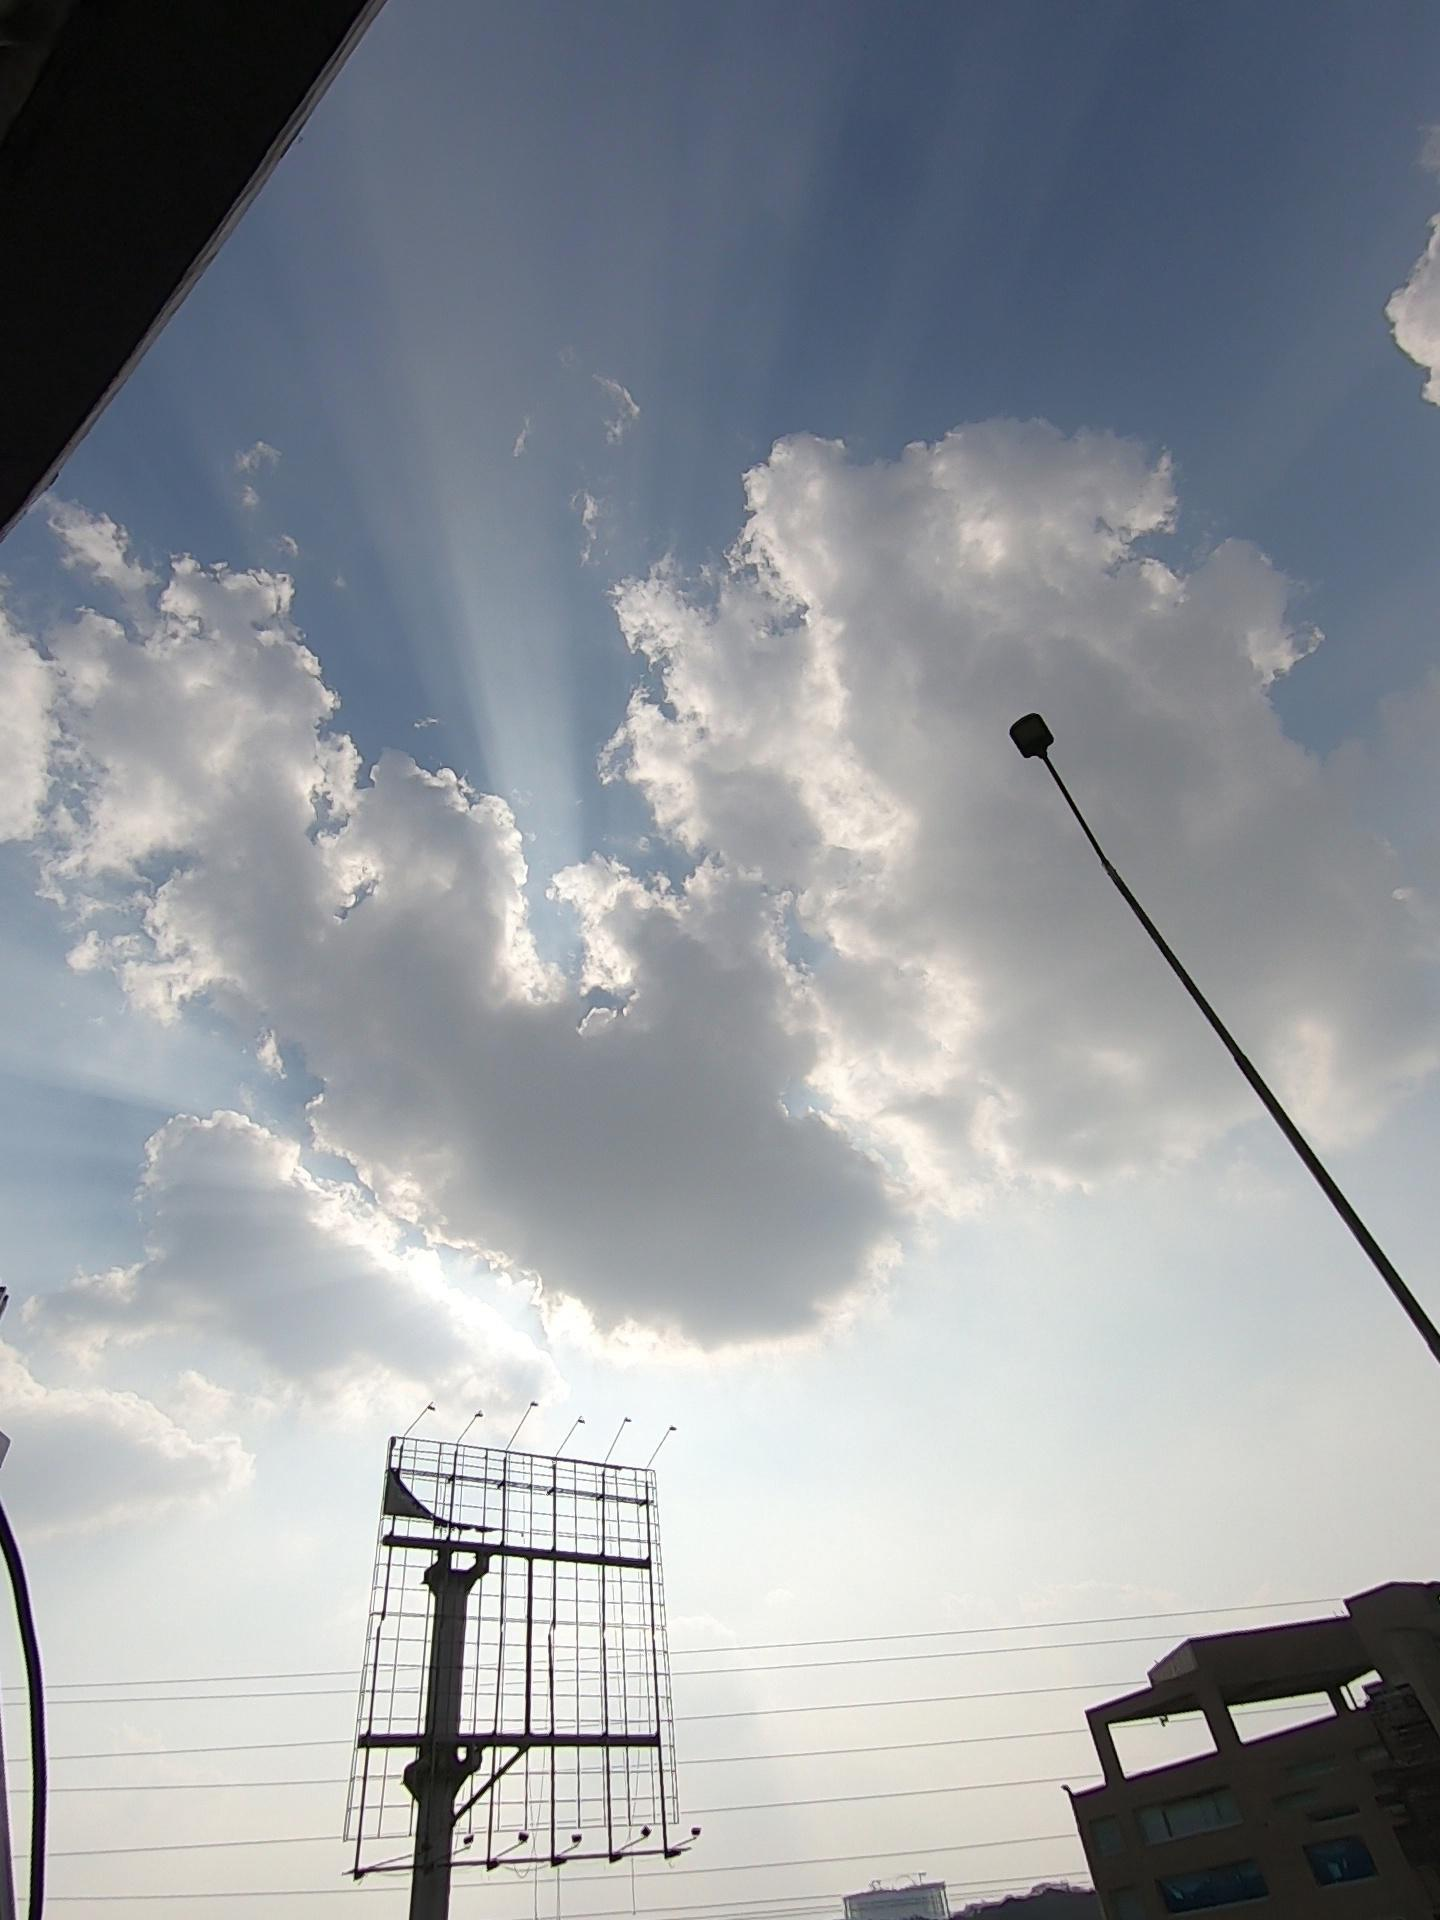off: (954, 656, 1068, 880)
